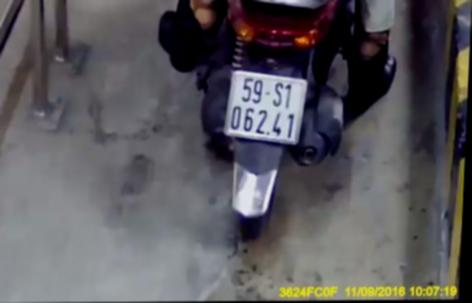License_Plate: (218, 65, 311, 150)
